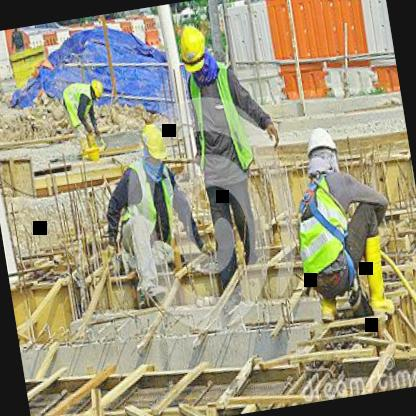helmet: (300, 122, 343, 187), (173, 18, 211, 76), (135, 120, 170, 172), (84, 75, 106, 103)
